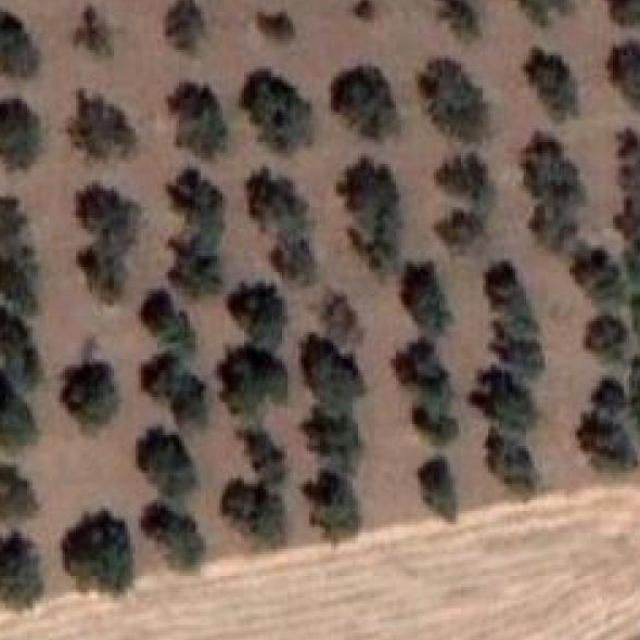Tree: (336, 156, 399, 279), (248, 170, 312, 286), (486, 262, 546, 378), (434, 153, 495, 252), (65, 511, 137, 593), (577, 379, 640, 471), (242, 69, 312, 151), (418, 61, 488, 143), (60, 337, 119, 433), (331, 64, 400, 141), (217, 346, 287, 417), (519, 131, 589, 200), (302, 335, 366, 409), (168, 82, 228, 160), (74, 90, 138, 161), (470, 368, 536, 434), (143, 503, 206, 572), (222, 482, 286, 549), (166, 226, 228, 295), (304, 470, 361, 544), (139, 426, 197, 497), (228, 283, 286, 354), (71, 183, 143, 240), (302, 408, 362, 474), (402, 264, 454, 339), (524, 48, 578, 120), (485, 426, 537, 497), (144, 288, 198, 356), (76, 243, 133, 304), (570, 243, 624, 305), (0, 532, 42, 610), (166, 167, 226, 219), (530, 194, 582, 253), (399, 337, 450, 394), (0, 245, 42, 314), (0, 99, 39, 171), (0, 7, 39, 77), (239, 429, 285, 484), (0, 375, 34, 449), (418, 457, 456, 523), (0, 464, 40, 524), (165, 0, 206, 53), (74, 3, 113, 58), (610, 42, 640, 113), (326, 289, 362, 348), (141, 354, 184, 400), (172, 372, 208, 426), (584, 316, 627, 361), (415, 406, 460, 447), (437, 0, 482, 40), (0, 185, 27, 243), (516, 0, 568, 26), (258, 12, 296, 42), (605, 0, 640, 25), (347, 0, 383, 23)
